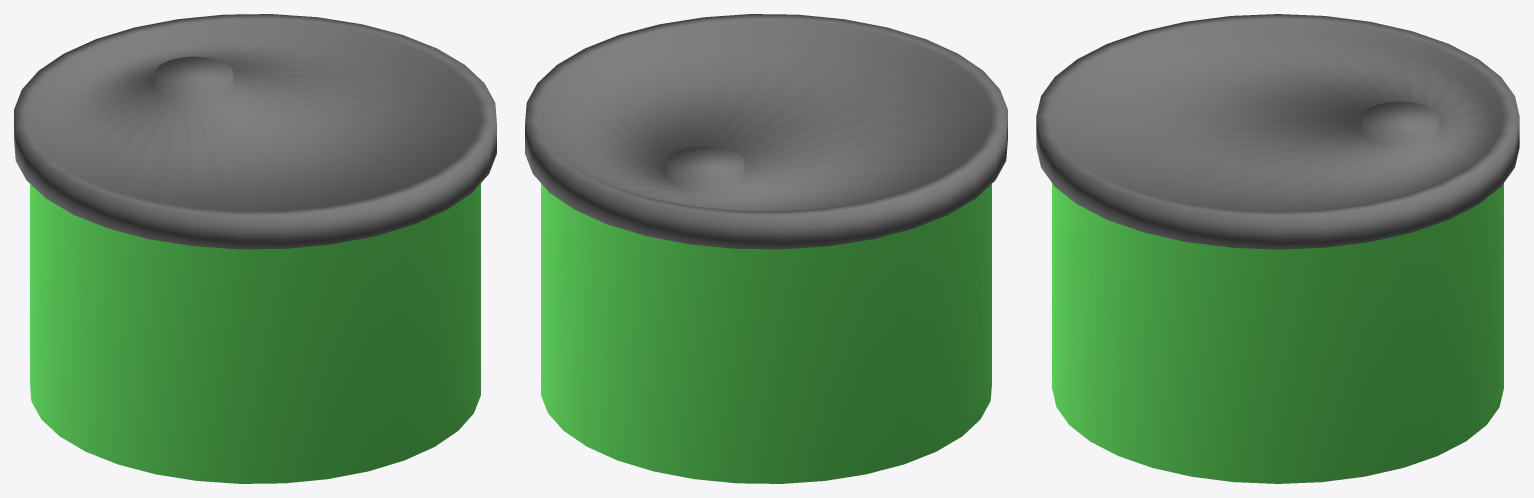
The model's file is Fass.glb.
3 renders of one model, left to right at view 1: azimuth 30°, elevation 25°; view 2: azimuth 150°, elevation 25°; view 3: azimuth 270°, elevation 25°, orthographic.
Parts seen in each view (by area): view 1: Cylinder; view 2: Cylinder; view 3: Cylinder.
Boxes of the visible parts, left/top/right/bottom form: Cylinder: left=14, top=14, right=496, bottom=483; Cylinder: left=525, top=14, right=1007, bottom=483; Cylinder: left=1036, top=14, right=1519, bottom=483.
Size of the model in its own units: 1.73 by 1.07 by 1.73.
